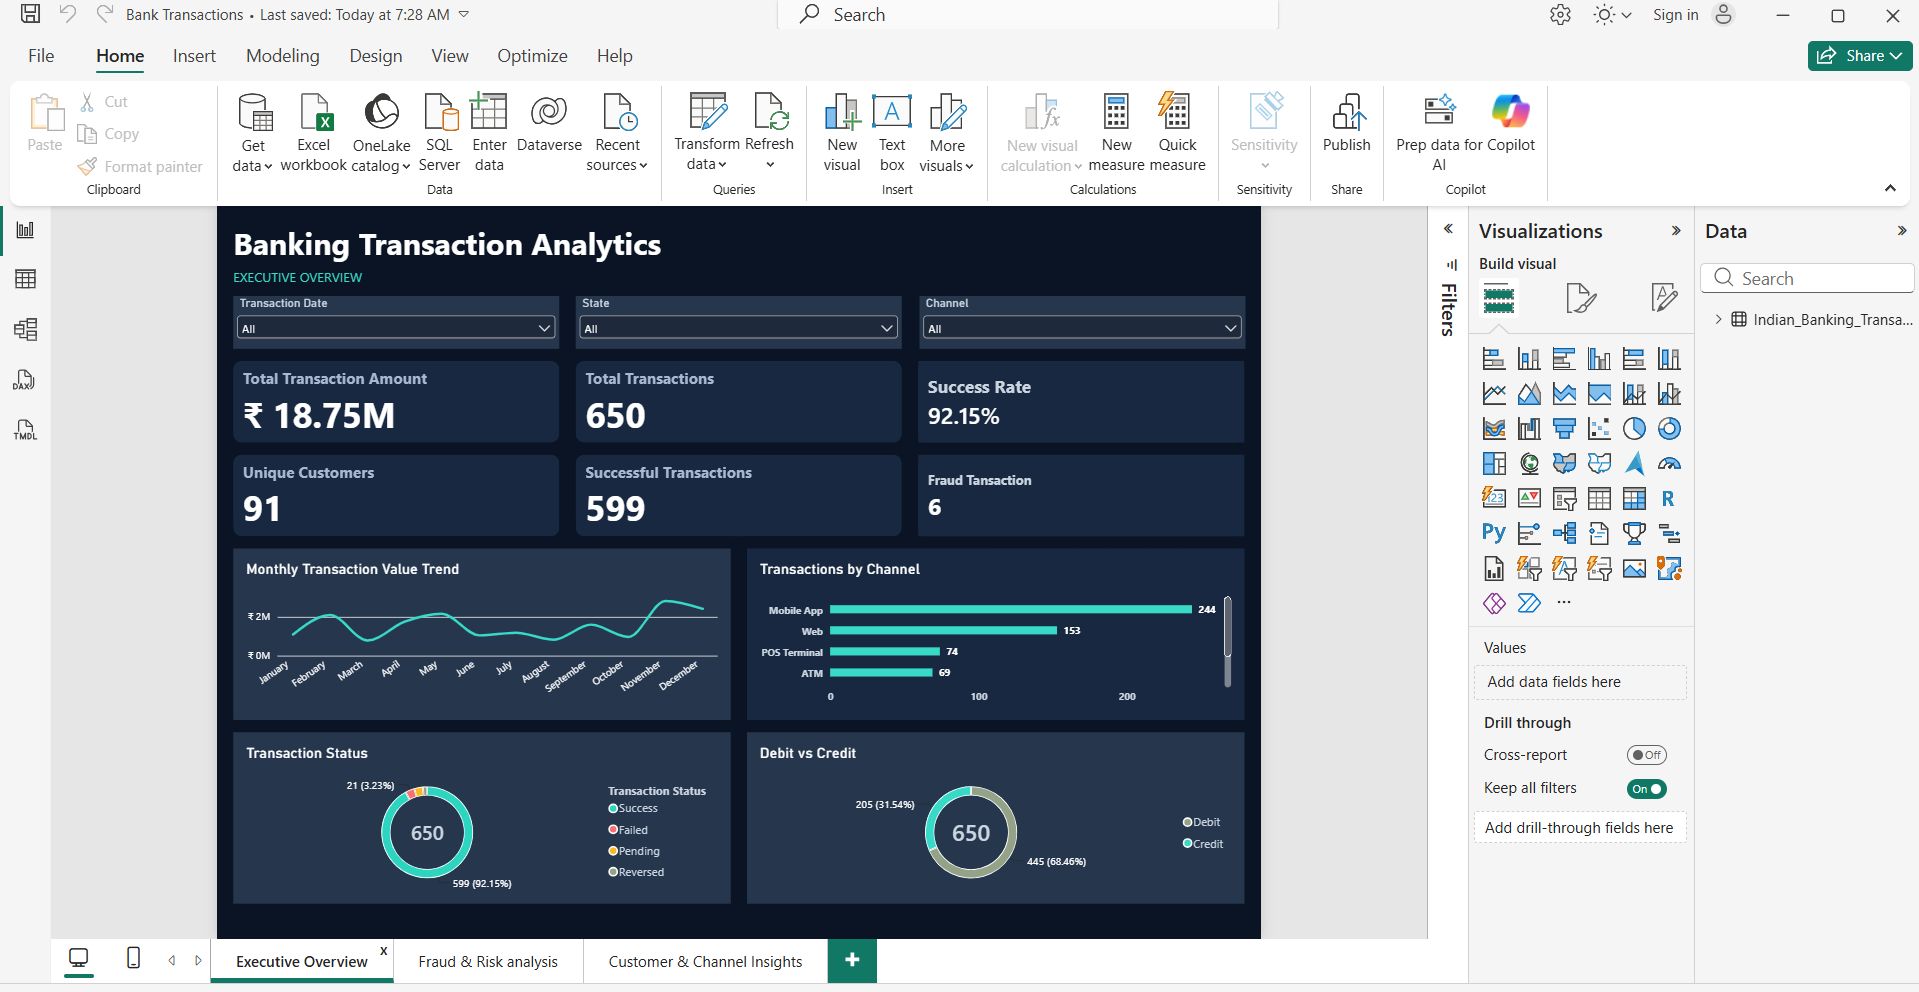

The page's visual inventory and layout, read from the dashboard file:
{"tool":"powerbi","page":{"name":"Executive Overview","canvas":[1280,900],"ordinal":0},"visuals":[{"type":"cardVisual","fields":{"Data":["Indian_Banking_Transactions_Cleaned_Verion.Total Transactions"]},"box":[440,190,400,100],"z":0},{"type":"cardVisual","fields":{"Data":["Indian_Banking_Transactions_Cleaned_Verion.Total Transaction Amount"]},"box":[20,190,400,100],"z":1000},{"type":"cardVisual","fields":{"Data":["Indian_Banking_Transactions_Cleaned_Verion.Success Rate"]},"box":[1286.5,166.7,634,110],"z":2000},{"type":"cardVisual","fields":{"Data":["Indian_Banking_Transactions_Cleaned_Verion.Unique Customers"]},"box":[20,305,400,100],"z":3000},{"type":"cardVisual","fields":{"Data":["Indian_Banking_Transactions_Cleaned_Verion.Fraud Tansaction"]},"box":[1286.5,375.6,634,110],"z":4000},{"type":"cardVisual","fields":{"Data":["Indian_Banking_Transactions_Cleaned_Verion.Successful Transactions"]},"box":[440,305,400,100],"z":5000},{"type":"clusteredBarChart","title":"Transactions by Channel","fields":{"Category":["Indian_Banking_Transactions_Cleaned_Verion.Channel"],"Y":["Indian_Banking_Transactions_Cleaned_Verion.Total Transactions"]},"box":[650,420,610,210],"z":6000},{"type":"cardVisual","fields":{"Data":["Indian_Banking_Transactions_Cleaned_Verion.Success Rate"]},"box":[860,190,400.3,100],"z":7000},{"type":"cardVisual","fields":{"Data":["Indian_Banking_Transactions_Cleaned_Verion.Fraud Tansaction"]},"box":[860,305,400,100],"z":8000},{"type":"textbox","box":[20,20,900,50],"z":9000},{"type":"textbox","box":[20,75,350,25],"z":10000},{"type":"slicer","fields":{"Values":["Indian_Banking_Transactions_Cleaned_Verion.Transaction Date"]},"box":[20,110,400,65],"z":11000},{"type":"slicer","fields":{"Values":["Indian_Banking_Transactions_Cleaned_Verion.State"]},"box":[440.2,110.4,400,65],"z":12000},{"type":"slicer","fields":{"Values":["Indian_Banking_Transactions_Cleaned_Verion.Channel"]},"box":[862,110.4,400,65],"z":13000},{"type":"donutChart","title":"Transaction Status","fields":{"Category":["Indian_Banking_Transactions_Cleaned_Verion.Transaction Status"],"Y":["Indian_Banking_Transactions_Cleaned_Verion.Total Transactions"]},"box":[20,645,610,210],"z":14000},{"type":"donutChart","title":"Debit vs Credit","fields":{"Category":["Indian_Banking_Transactions_Cleaned_Verion.Transaction Direction"],"Y":["Indian_Banking_Transactions_Cleaned_Verion.Total Transactions"]},"box":[650,645,610,210],"z":15000},{"type":"lineChart","title":"Monthly Transaction Value Trend","fields":{"Category":["Indian_Banking_Transactions_Cleaned_Verion.Transaction Date.Variation.Date Hierarchy.Year","Indian_Banking_Transactions_Cleaned_Verion.Transaction Date.Variation.Date Hierarchy.Month"],"Y":["Indian_Banking_Transactions_Cleaned_Verion.Total Transaction Amount"]},"box":[19.9,420.2,610.4,210.1],"z":16000}]}

Visuals, with their boxes on the page's 1280x900 design canvas (x1, y1, x2, y2). These are canvas units, not pixel positions in the 1919x992 screenshot, which may show the page scaled, cropped or inside an application window:
cardVisual - Indian_Banking_Transactions_Cleaned_Verion.Total Transactions: [440, 190, 840, 290]
cardVisual - Indian_Banking_Transactions_Cleaned_Verion.Total Transaction Amount: [20, 190, 420, 290]
cardVisual - Indian_Banking_Transactions_Cleaned_Verion.Success Rate: [1286, 167, 1920, 277]
cardVisual - Indian_Banking_Transactions_Cleaned_Verion.Unique Customers: [20, 305, 420, 405]
cardVisual - Indian_Banking_Transactions_Cleaned_Verion.Fraud Tansaction: [1286, 376, 1920, 486]
cardVisual - Indian_Banking_Transactions_Cleaned_Verion.Successful Transactions: [440, 305, 840, 405]
"Transactions by Channel" clusteredBarChart: [650, 420, 1260, 630]
cardVisual - Indian_Banking_Transactions_Cleaned_Verion.Success Rate: [860, 190, 1260, 290]
cardVisual - Indian_Banking_Transactions_Cleaned_Verion.Fraud Tansaction: [860, 305, 1260, 405]
textbox: [20, 20, 920, 70]
textbox: [20, 75, 370, 100]
slicer - Indian_Banking_Transactions_Cleaned_Verion.Transaction Date: [20, 110, 420, 175]
slicer - Indian_Banking_Transactions_Cleaned_Verion.State: [440, 110, 840, 175]
slicer - Indian_Banking_Transactions_Cleaned_Verion.Channel: [862, 110, 1262, 175]
"Transaction Status" donutChart: [20, 645, 630, 855]
"Debit vs Credit" donutChart: [650, 645, 1260, 855]
"Monthly Transaction Value Trend" lineChart: [20, 420, 630, 630]
